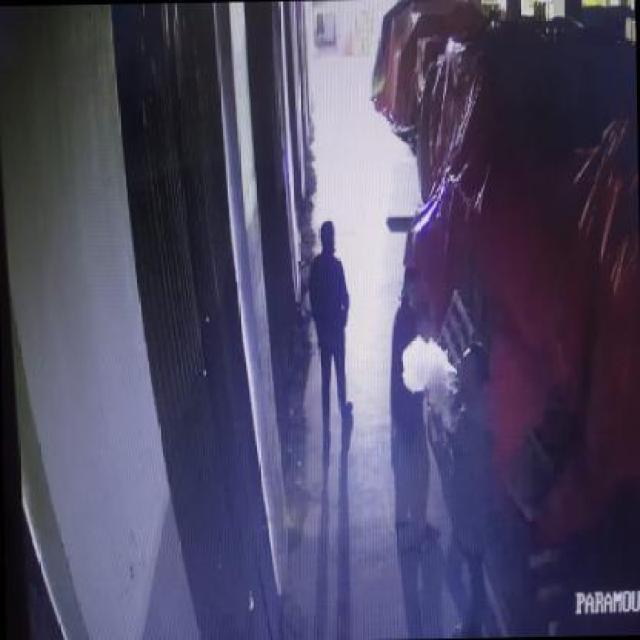fire: (398, 331, 453, 400)
